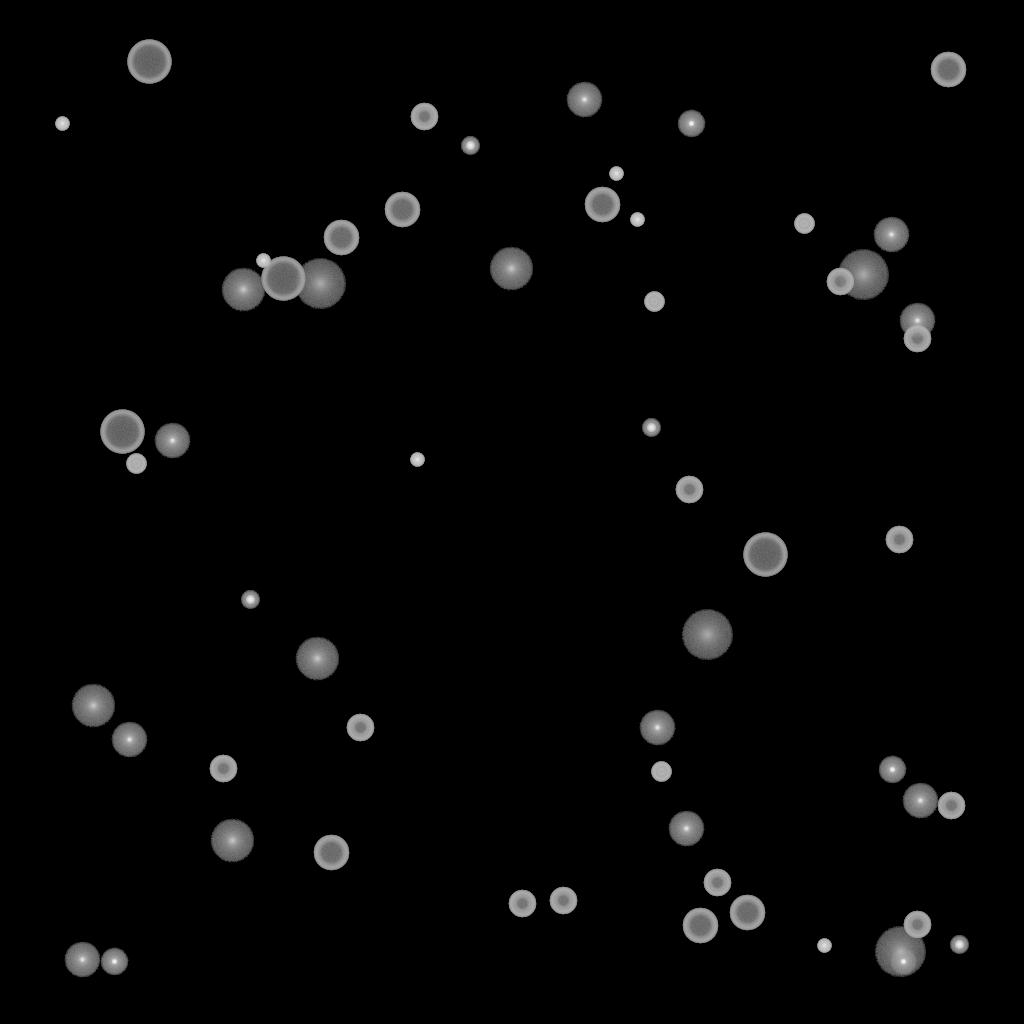depth:-10: (889, 948, 917, 976), (878, 756, 906, 784), (677, 110, 705, 138), (100, 948, 128, 976)
depth:-20: (461, 137, 479, 155), (642, 419, 660, 437), (950, 936, 968, 954), (241, 591, 259, 609)
depth:-30: (410, 453, 424, 467), (609, 167, 623, 181), (256, 254, 270, 268), (630, 213, 644, 227), (55, 117, 69, 131), (817, 939, 831, 953)
depth:-40: (644, 292, 664, 312), (651, 762, 671, 782), (794, 214, 814, 234), (126, 454, 146, 474)
depth:-50: (346, 714, 374, 742), (209, 755, 237, 783), (675, 476, 703, 504), (903, 911, 931, 939), (549, 887, 577, 915), (903, 325, 931, 353), (410, 103, 438, 131), (937, 792, 965, 820), (703, 869, 731, 897), (508, 890, 536, 918), (826, 268, 854, 296), (885, 526, 913, 554)
depth:-60: (682, 908, 718, 944), (729, 895, 765, 931), (313, 835, 349, 871), (930, 52, 966, 88), (323, 220, 359, 256), (384, 192, 420, 228), (584, 187, 620, 223)
depth:-70: (100, 410, 144, 454), (743, 533, 787, 577), (127, 40, 171, 84), (261, 257, 305, 301)
depth:0: (111, 722, 147, 758), (668, 811, 704, 847), (64, 942, 100, 978), (902, 783, 938, 819), (899, 303, 935, 339), (639, 710, 675, 746), (154, 423, 190, 459), (566, 82, 602, 118), (873, 217, 909, 253)
depth:10: (71, 684, 115, 728), (489, 247, 533, 291), (221, 268, 265, 312), (295, 637, 339, 681), (210, 819, 254, 863)
depth:20: (874, 927, 926, 977), (294, 259, 346, 309), (837, 250, 889, 300), (681, 610, 733, 660)
